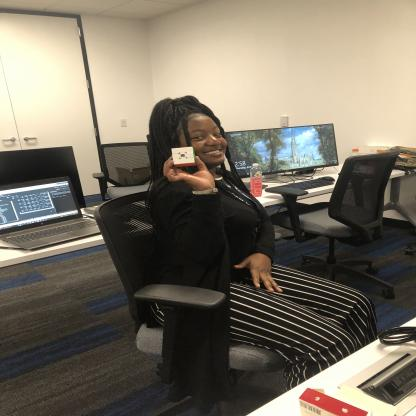SolvedCube: (167, 146, 199, 165)
